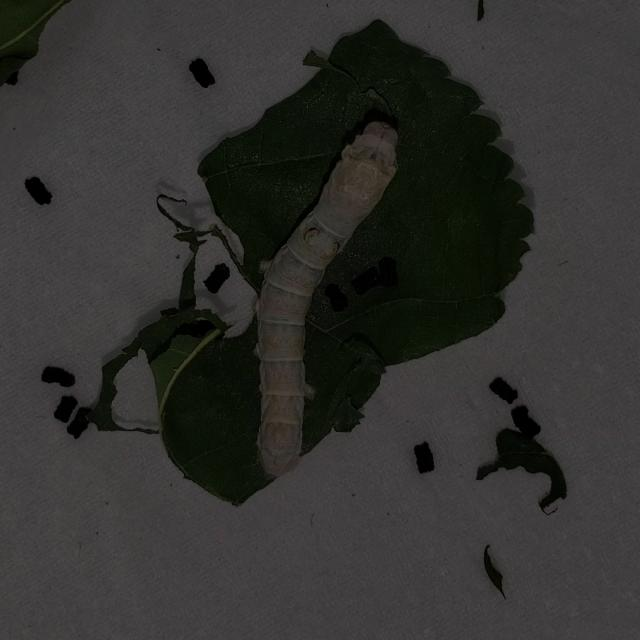Healthy: (210, 98, 428, 493)
